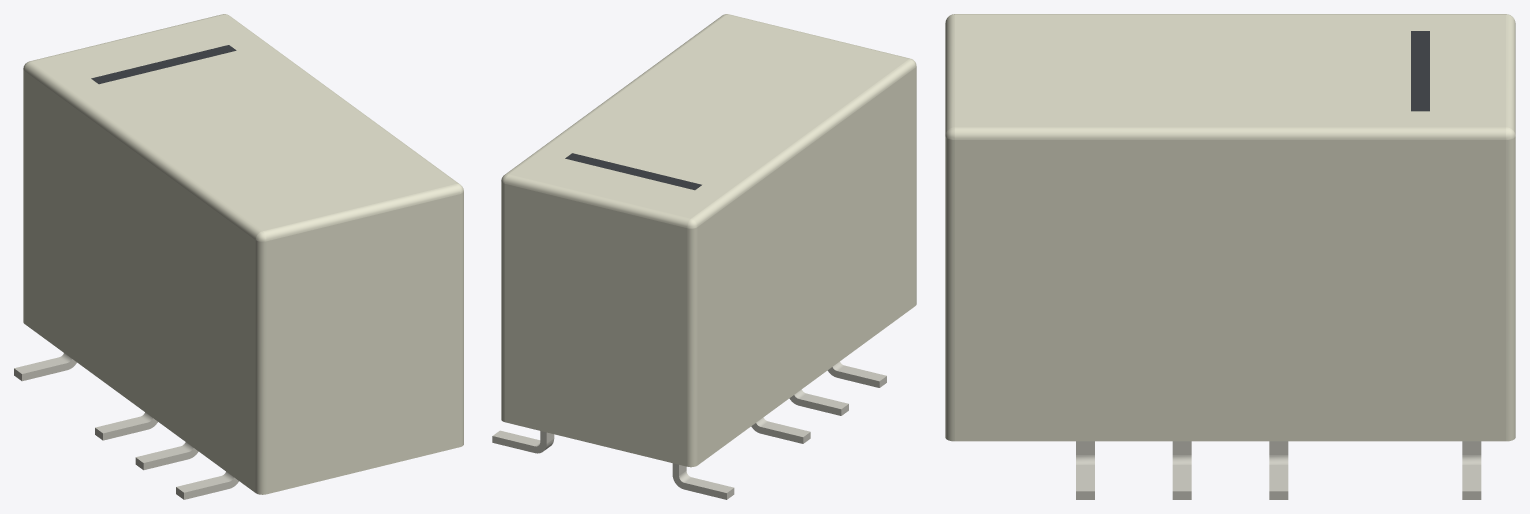
File: kc-relay_dpdt_kemet_ee2_nux_nkx.glb
3 renders of one model, left to right at view 1: azimuth 30°, elevation 25°; view 2: azimuth 150°, elevation 25°; view 3: azimuth 270°, elevation 25°, orthographic. The views are drawn at different scales.
Parts seen in each view (by area): view 1: 0.75_0.75_0.6666666666666666_0, 0.6666666666666666_0.6666666666666666_0.5833333333333334_0.8, 0.08333333333333333_0.08333333333333333_0.08333333333333333_; view 2: 0.75_0.75_0.6666666666666666_0, 0.6666666666666666_0.6666666666666666_0.5833333333333334_0.8, 0.08333333333333333_0.08333333333333333_0.08333333333333333_; view 3: 0.75_0.75_0.6666666666666666_0, 0.6666666666666666_0.6666666666666666_0.5833333333333334_0.8, 0.08333333333333333_0.08333333333333333_0.08333333333333333_.
Boxes of the visible parts, x1,y1,x2,y2 form: 0.75_0.75_0.6666666666666666_0: [23, 14, 463, 494]; 0.6666666666666666_0.6666666666666666_0.5833333333333334_0.8: [14, 353, 238, 499]; 0.08333333333333333_0.08333333333333333_0.08333333333333333_: [91, 45, 236, 84]; 0.75_0.75_0.6666666666666666_0: [501, 14, 916, 467]; 0.6666666666666666_0.6666666666666666_0.5833333333333334_0.8: [492, 361, 886, 499]; 0.08333333333333333_0.08333333333333333_0.08333333333333333_: [565, 153, 701, 190]; 0.75_0.75_0.6666666666666666_0: [945, 14, 1515, 441]; 0.6666666666666666_0.6666666666666666_0.5833333333333334_0.8: [1076, 441, 1481, 499]; 0.08333333333333333_0.08333333333333333_0.08333333333333333_: [1411, 31, 1429, 111].
Size of the model in its own units: 0.9 by 1.04 by 1.5.
